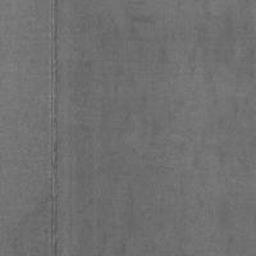Welding line: (47, 0, 60, 256)
